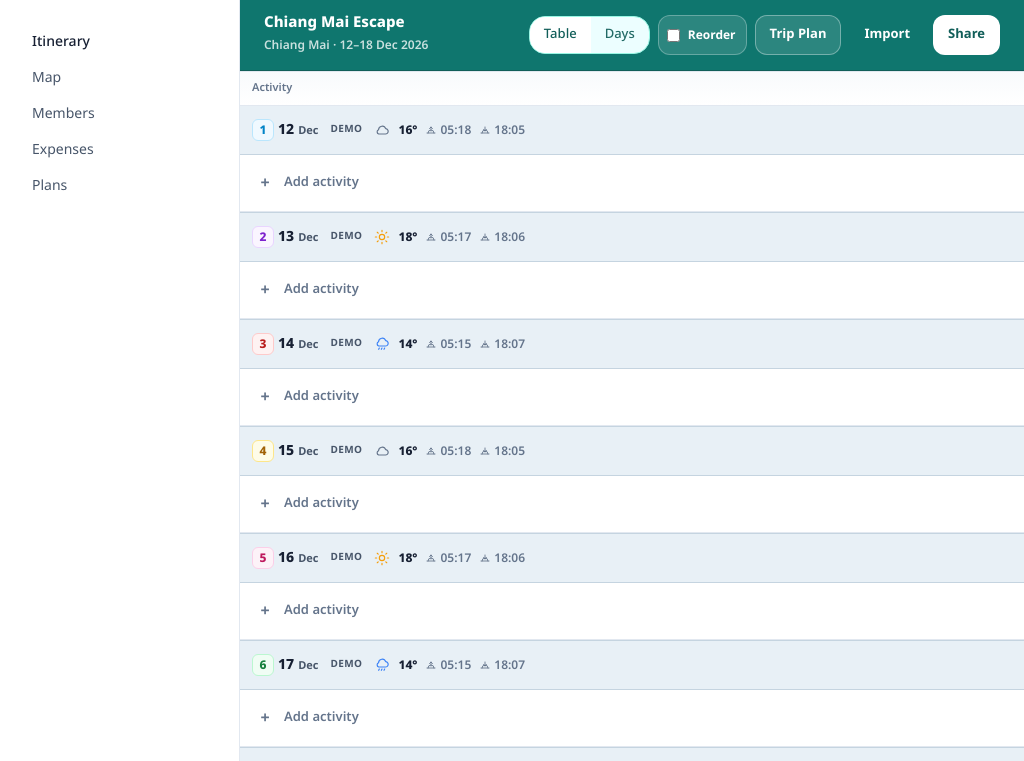
Test: TripWorkspaceShell Import command › command-bar Import opens the Import itinerary draft dialog for the loaded trip
Check: the text "Chiang Mai Escape" is shown, box [264,11,405,34]
Check: the dialog "Import itinerary" is not shown
Click the button "Import". click: [887, 35]
box: [850,15,925,55]
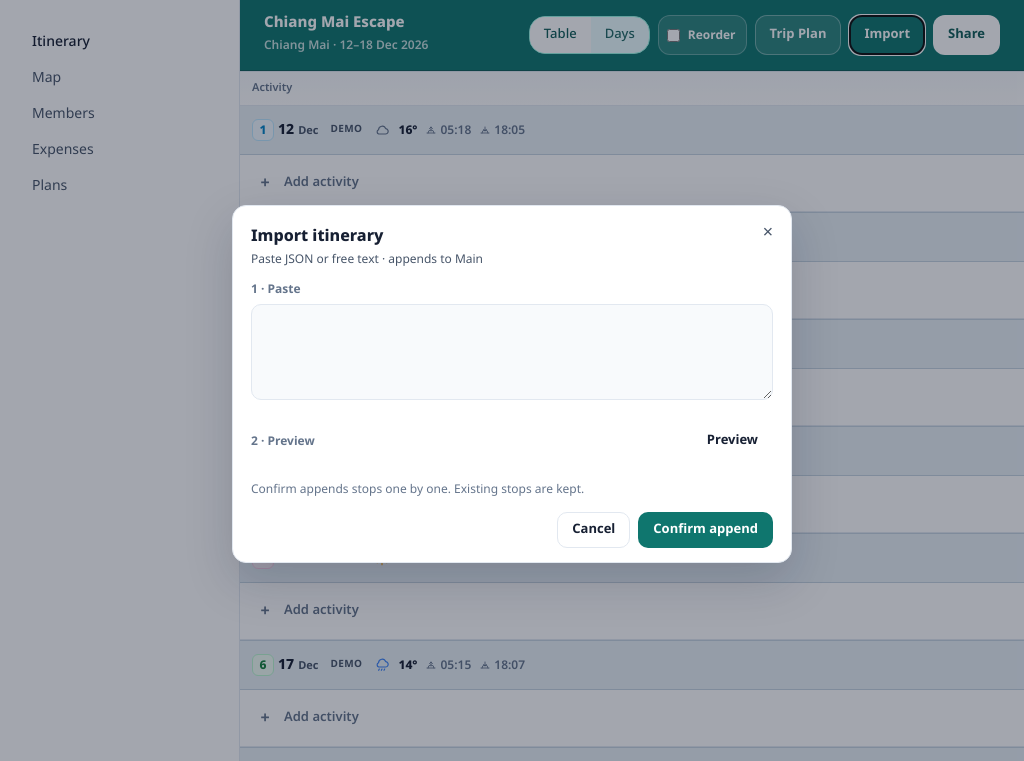
Check: the dialog "Import itinerary" shows "appends to Main", box [232,205,792,563]
